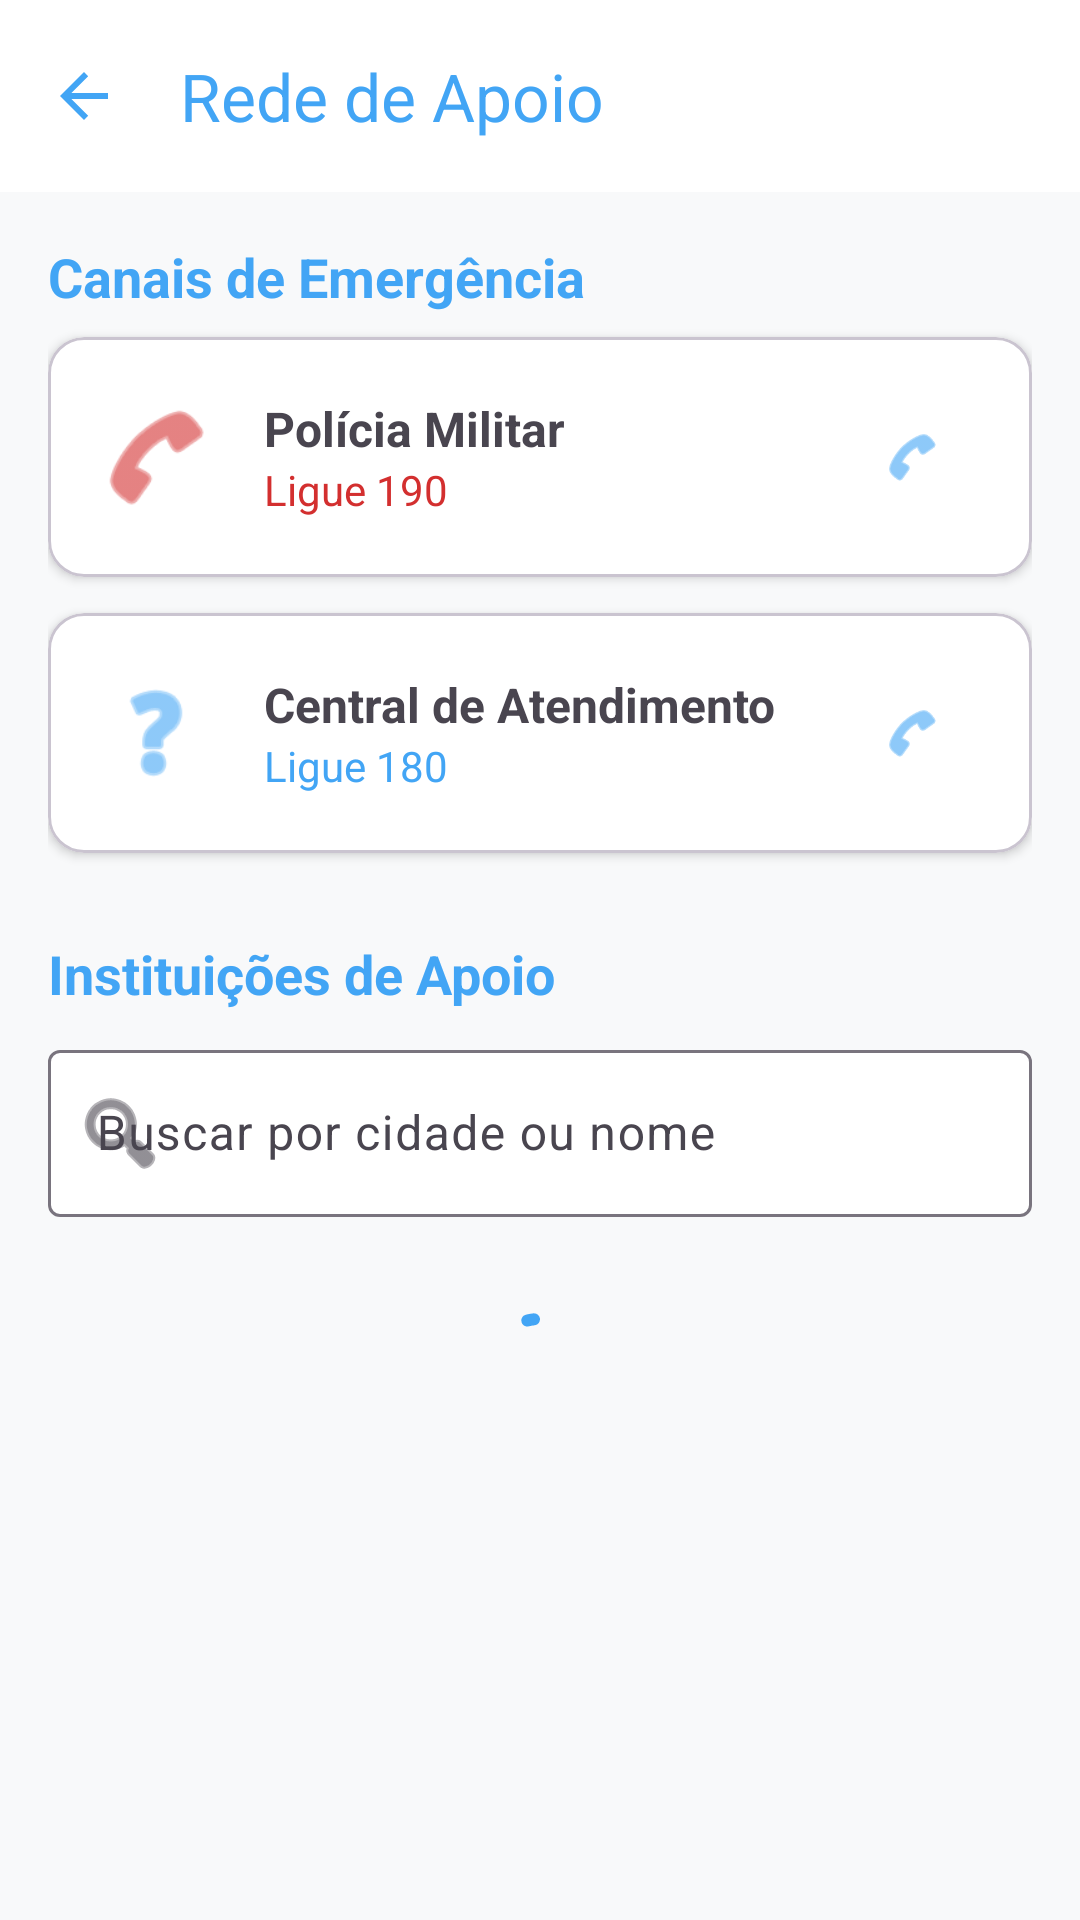

Where to tap for icons on this 1080*1920 app screen, as (x=x, y=y):
call: (x=157, y=458), (x=912, y=457), (x=912, y=733)
help: (x=156, y=733)
